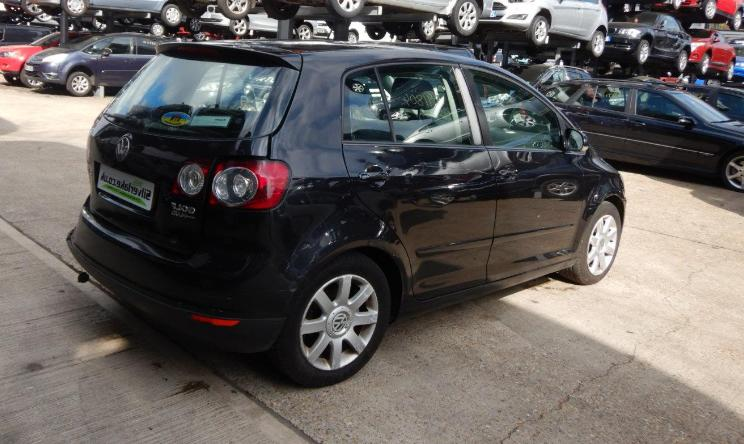Dent: (270, 225, 341, 300)
